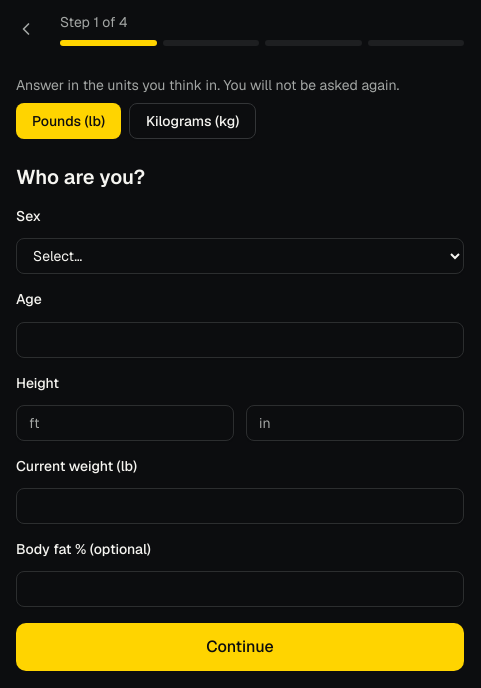
OnboardingPage in metric › re-shows the centimetres and kilograms that were typed after stepping back
Click the button "Kilograms (kg)".
click(193, 121)  # box [129,103,256,139]
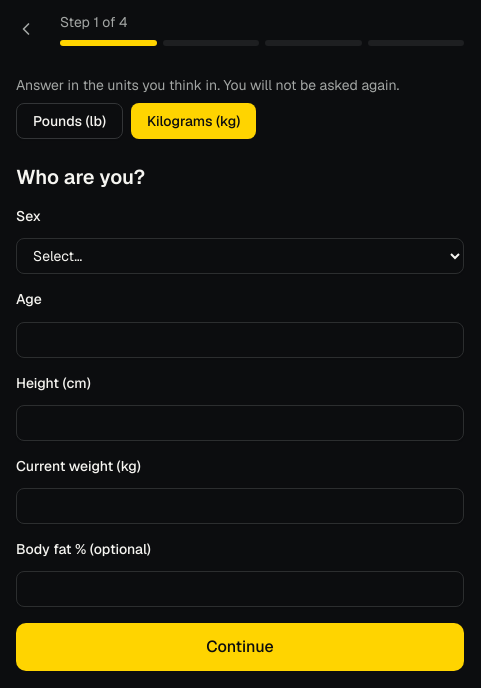
Select "female" in the dropdown labelled "Sex" at (240, 256), box [16,238,464,274]
Type "34" into the number field labelled "Age".
click(240, 340); type("34")  # box [16,322,464,358]
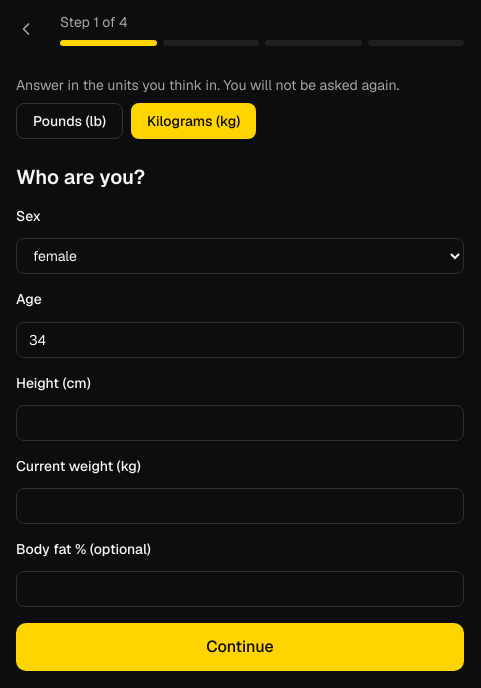
Type "170" into the number field labelled "Height (cm)".
click(240, 423); type("170")  # box [16,405,464,441]
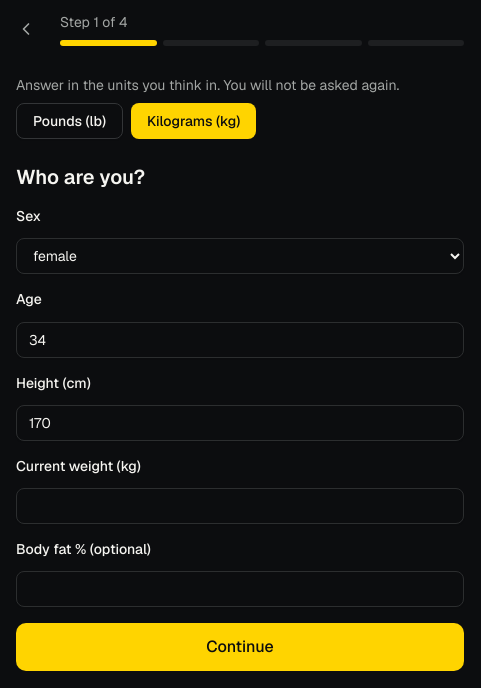
Type "65" into the number field labelled "Current weight (kg)".
click(240, 506); type("65")  # box [16,488,464,524]
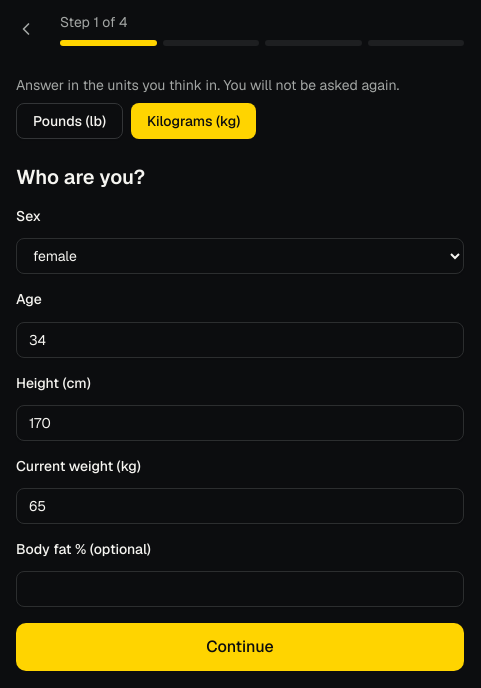
Click the button "Continue".
click(240, 647)  # box [16,623,464,671]
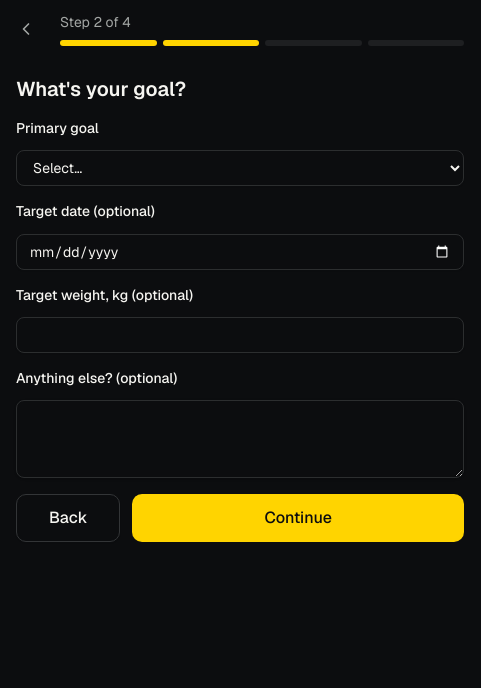
Expected: the heading "What's your goal?" is shown, [16,76,186,102]
Click the button "Back".
click(68, 518)  # box [16,494,120,542]
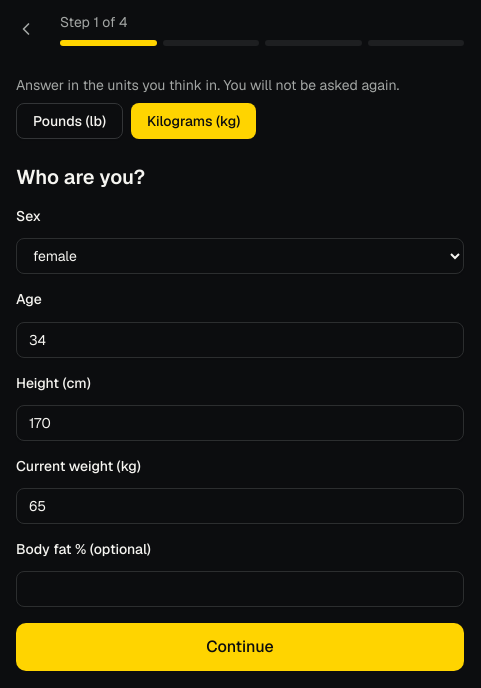
Expected: the number field labelled "Height (cm)" holds "170", [16,405,464,441]
Expected: the number field labelled "Current weight (kg)" holds "65", [16,488,464,524]
